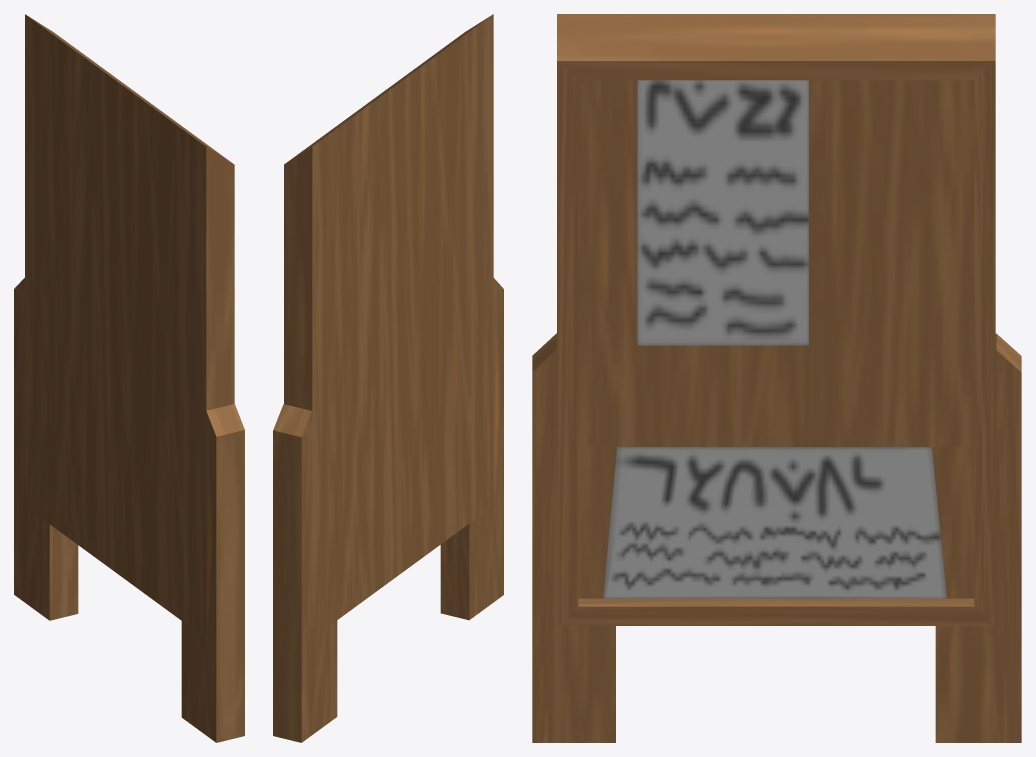
File: Board 2.fbx
The picture shows the model from 3 angles, left to right: view 1: azimuth 30°, elevation 25°; view 2: azimuth 150°, elevation 25°; view 3: azimuth 270°, elevation 25°; orthographic projection. The views are drawn at different scales.
Visible parts, largest first — view 1: Board_2; view 2: Board_2; view 3: Board_2.
Boxes of the visible parts, left/top/right/bottom form: Board_2: left=14, top=14, right=244, bottom=742; Board_2: left=273, top=14, right=503, bottom=742; Board_2: left=532, top=14, right=1021, bottom=742.
Size of the model in its own units: 11.86 by 234 by 146.
1 material, 1 textured.
